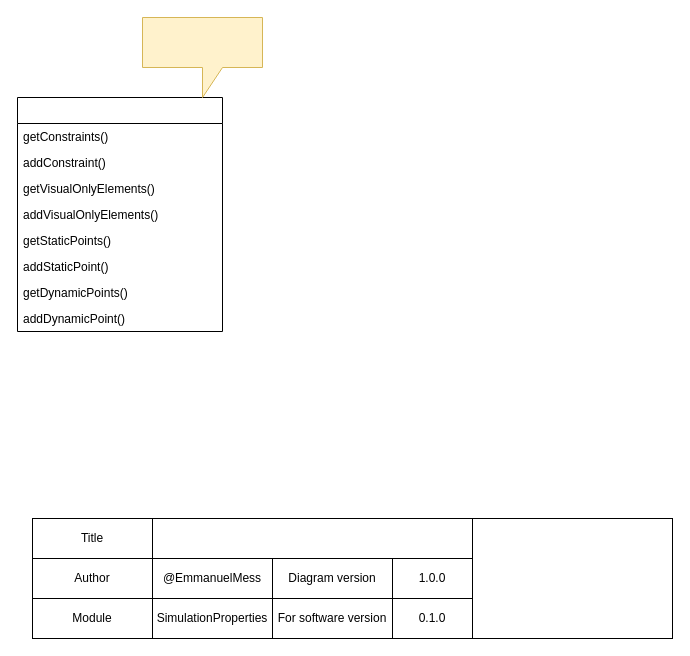
The diagram is 690 pixels wide and 656 high, and some of its shapes have lost their labels. Here are the shapes that lost their labels. From the top down, the box of each, then its label:
(142, 16, 262, 98): Added objects are defined in other modules
(16, 96, 222, 332): SimulationPropertiesStore
(152, 518, 472, 558): simulation properties class diagram
(472, 518, 672, 638): Constraint Based Simulator
